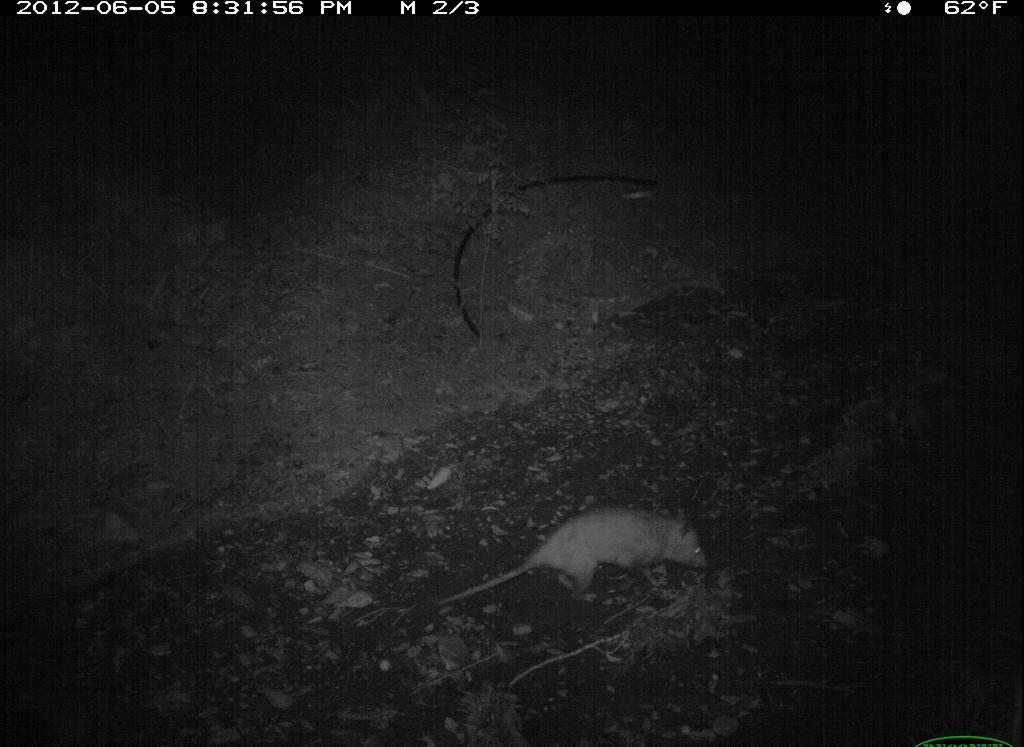opossum: (436, 500, 717, 620)
